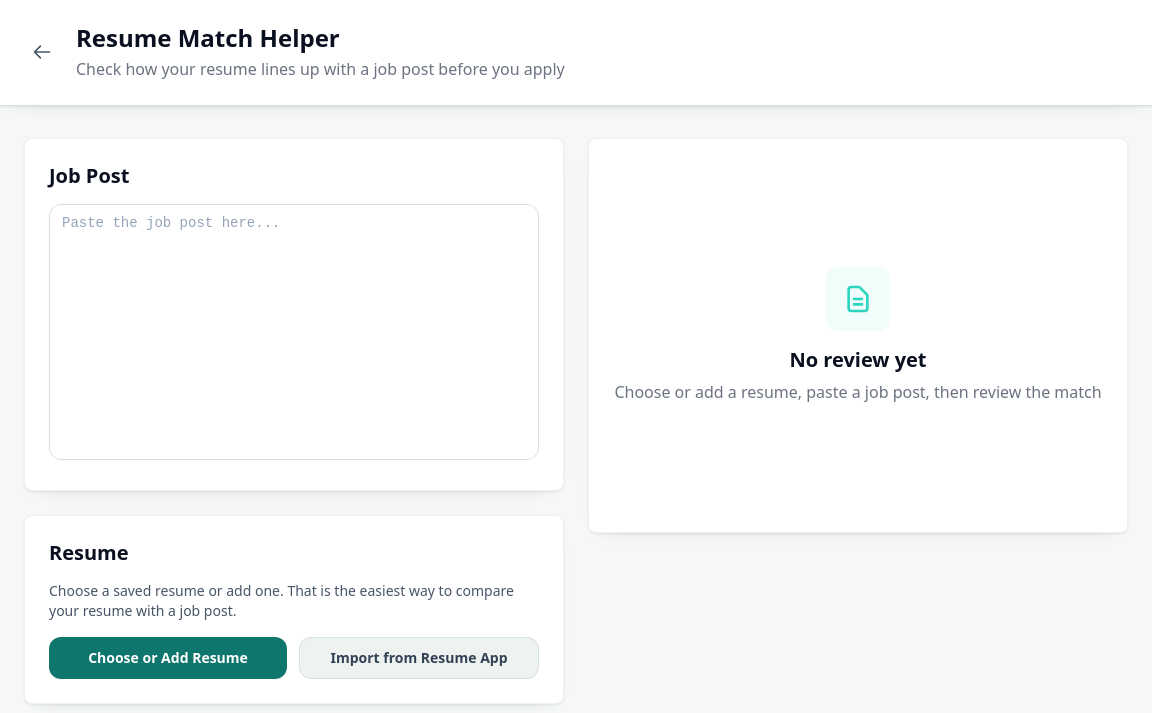
Test: ResumeMatch › starts with choose or add before copied resume details import
expect the text "Choose a saved resume or add one" is shown: met, box [49,581,514,620]
expect the field labelled "copied resume details" is not shown: met
Click the button "Choose or Add Resume" at (168, 658), box [49,637,287,679]
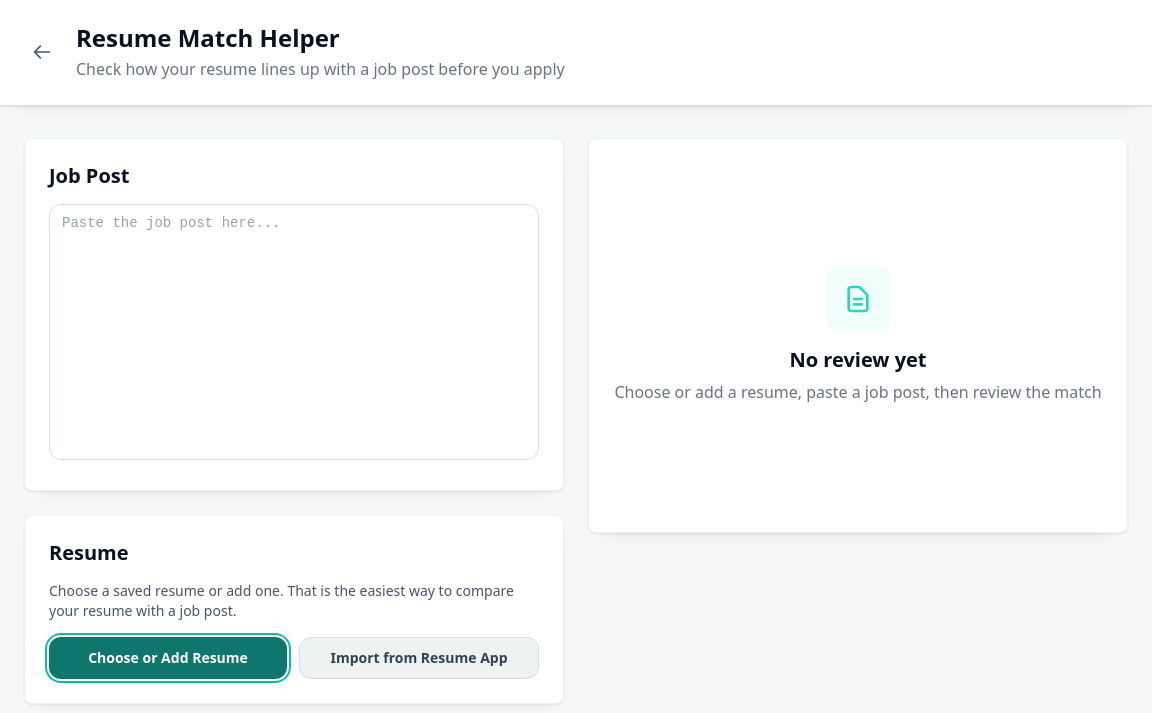
Click the button "Import from Resume App" at (419, 658), box [299,637,539,679]
(page scrolled)
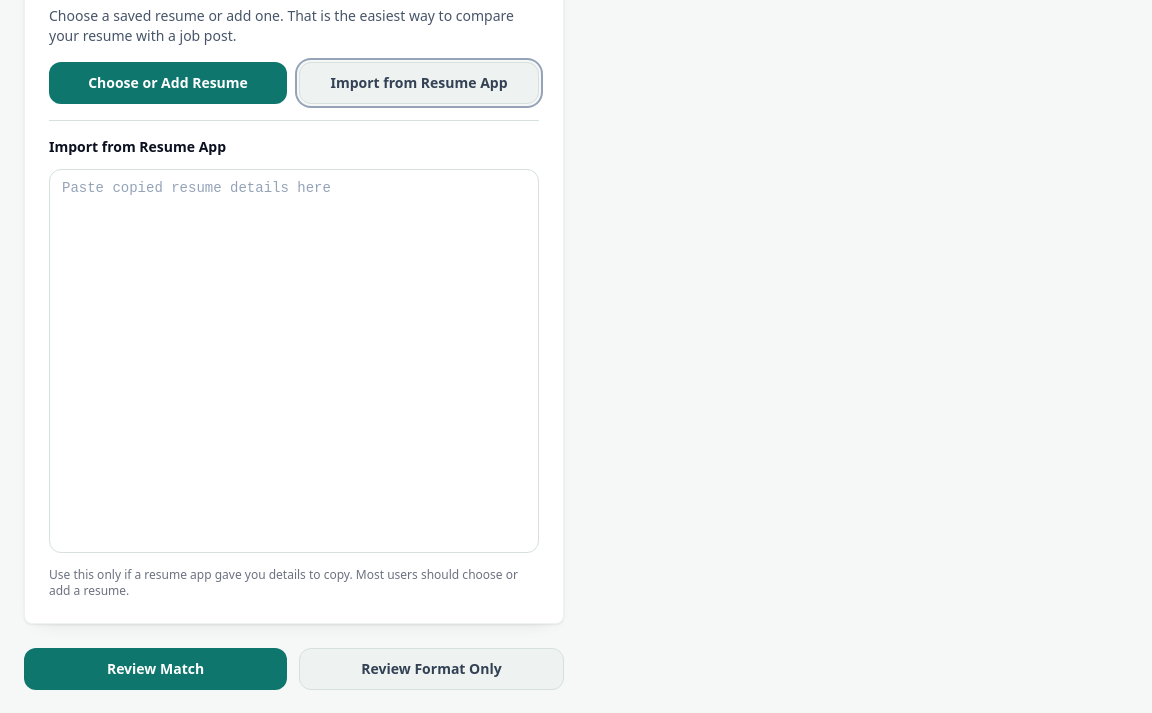
expect the text box labelled "Paste copied resume details here" is shown: met, box [49,169,539,553]
